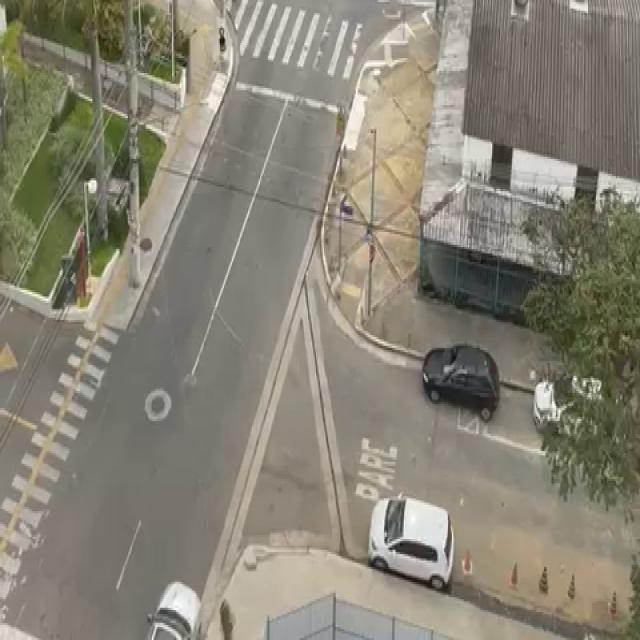car: (358, 484, 464, 598), (411, 334, 514, 425), (529, 356, 630, 442), (131, 573, 212, 640)
